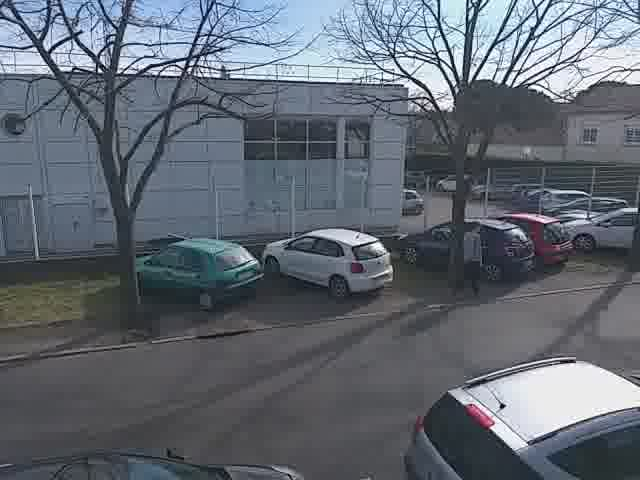persona: (447, 209, 490, 304)
